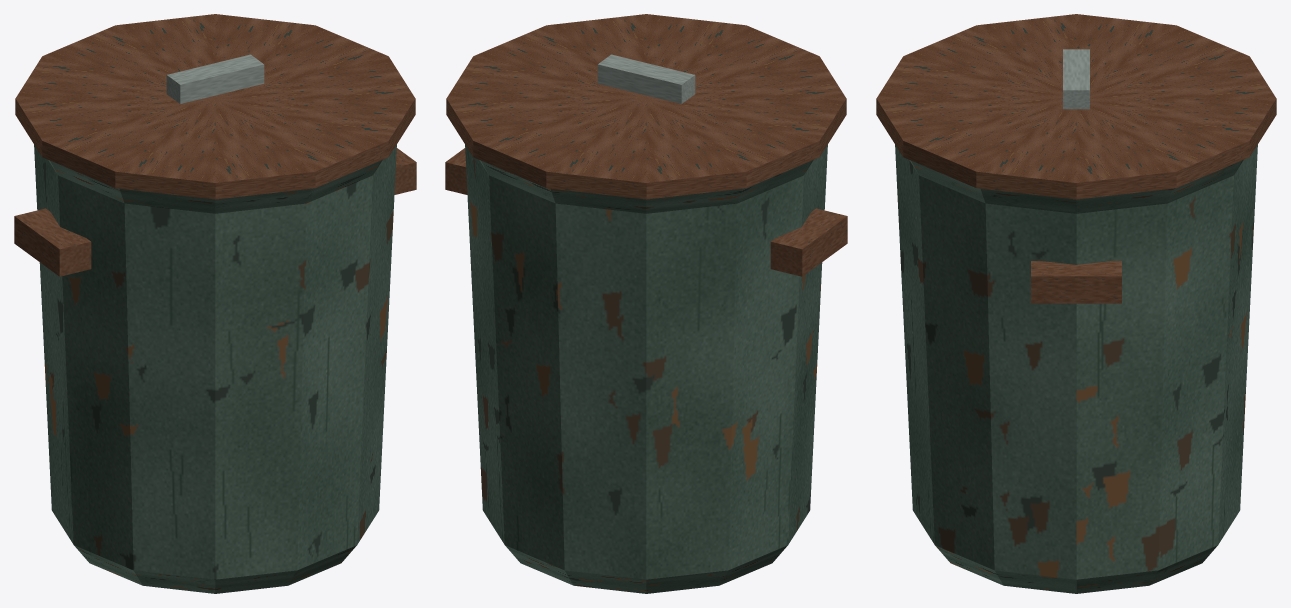
File: TrashBin.glb
The picture shows the model from 3 angles, left to right: view 1: azimuth 30°, elevation 25°; view 2: azimuth 150°, elevation 25°; view 3: azimuth 270°, elevation 25°; orthographic projection.
Visible parts, largest first — view 1: TrashBin; view 2: TrashBin; view 3: TrashBin.
Part boxes in pixels (x1,y1,x2,y2): TrashBin: (14,14,416,593); TrashBin: (445,14,847,593); TrashBin: (876,14,1276,593).
Size of the model in its own units: 0.68 by 0.8425 by 0.66.
Materials: 3 (3 with a texture image).
